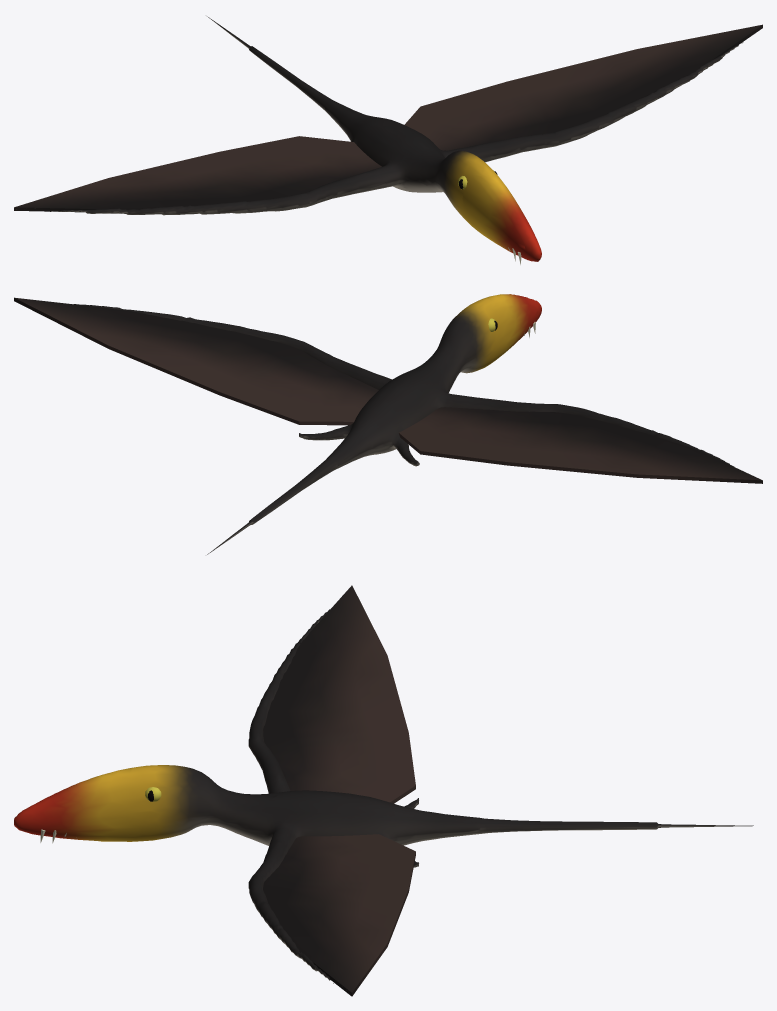
File: Dimorphodon.fbx
3 views of the same model, one above another, from view 1: azimuth 30°, elevation 25°; view 2: azimuth 150°, elevation 25°; view 3: azimuth 270°, elevation 25° (orthographic). The views are drawn at different scales.
Visible parts, largest first — view 1: Dimorphodon; view 2: Dimorphodon; view 3: Dimorphodon.
Boxes of the visible parts, x1=… form: Dimorphodon: x1=14, y1=16, x2=762, y2=264; Dimorphodon: x1=14, y1=294, x2=762, y2=554; Dimorphodon: x1=14, y1=585, x2=753, y2=996.
Size of the model in its own units: 1.36 by 0.1359 by 1.06.
